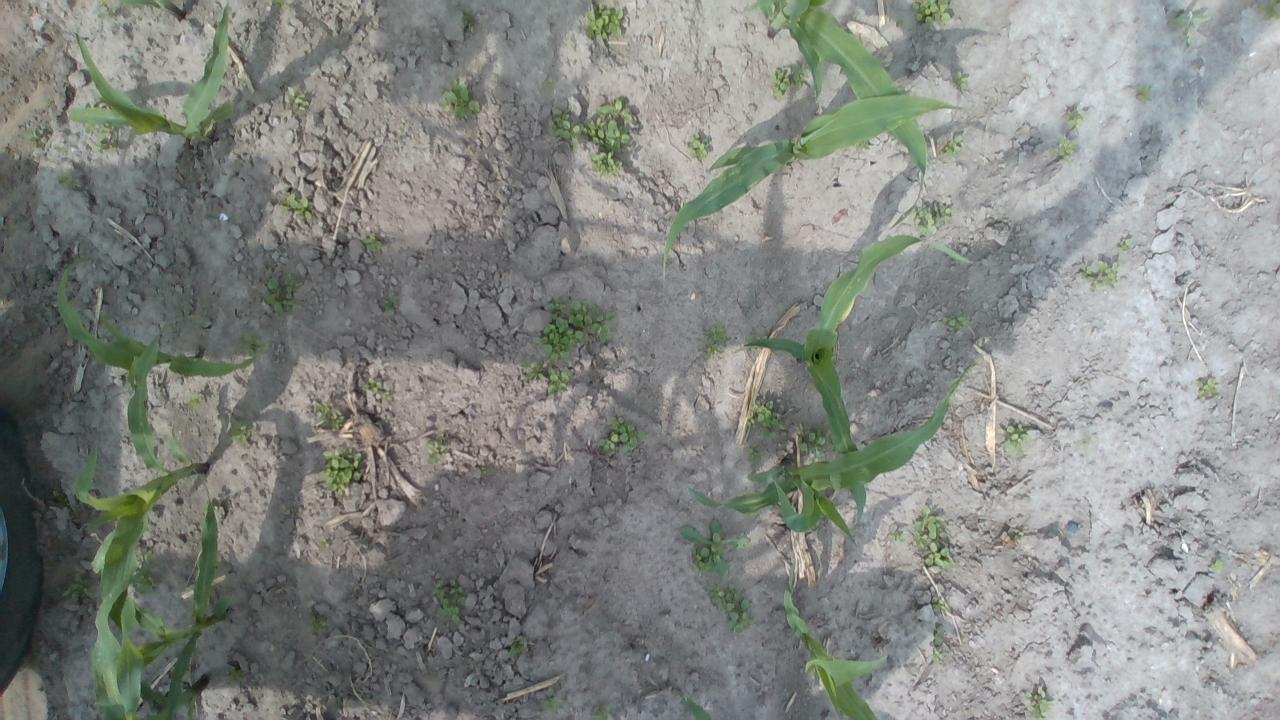Maize: (744, 231, 976, 525), (661, 94, 966, 267), (687, 368, 968, 543), (69, 330, 209, 654), (750, 0, 927, 228), (86, 495, 232, 720), (54, 255, 256, 380), (67, 8, 239, 148), (770, 576, 891, 720), (108, 586, 206, 720), (111, 0, 183, 21), (680, 696, 719, 720)
Weeds: (533, 298, 617, 360), (679, 518, 750, 577), (584, 95, 634, 154), (912, 508, 956, 568), (703, 582, 753, 632), (319, 449, 363, 497), (598, 415, 647, 454), (432, 578, 468, 626), (438, 78, 479, 120), (264, 272, 298, 320), (582, 3, 624, 40), (547, 108, 584, 148), (1078, 258, 1125, 289), (912, 200, 952, 236), (744, 400, 785, 435), (1170, 10, 1209, 46), (911, 0, 952, 27), (276, 190, 314, 219), (796, 428, 830, 460), (1024, 686, 1055, 720), (701, 320, 730, 356), (133, 552, 159, 592), (312, 402, 346, 432), (62, 576, 96, 603), (1000, 422, 1028, 454), (546, 366, 572, 396), (592, 150, 622, 176), (238, 334, 273, 356), (938, 129, 963, 157), (228, 415, 250, 446), (686, 132, 709, 160), (942, 312, 971, 334), (425, 438, 449, 464), (541, 686, 562, 715), (772, 66, 790, 97), (1064, 106, 1088, 129), (1050, 138, 1075, 160), (791, 62, 812, 88), (96, 122, 114, 152), (522, 358, 544, 380), (1195, 376, 1217, 398), (1257, 0, 1280, 20), (286, 85, 306, 108), (97, 0, 119, 20), (509, 638, 529, 658), (23, 127, 44, 146), (302, 618, 328, 633), (887, 524, 905, 544), (364, 232, 384, 250), (744, 446, 761, 466), (1134, 86, 1154, 103), (228, 668, 246, 686), (954, 71, 970, 90), (382, 296, 401, 312), (364, 377, 381, 393), (590, 705, 608, 720), (1210, 558, 1224, 574), (462, 15, 474, 33), (1120, 238, 1136, 251), (56, 174, 72, 187), (853, 138, 870, 150), (932, 598, 948, 610), (931, 650, 944, 662), (542, 78, 556, 89), (1014, 530, 1026, 542), (270, 0, 286, 8), (84, 123, 95, 134), (168, 664, 178, 674), (190, 393, 200, 402)
